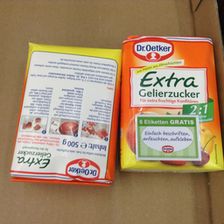tomato_sauce: (10, 41, 122, 188), (120, 35, 223, 174)
